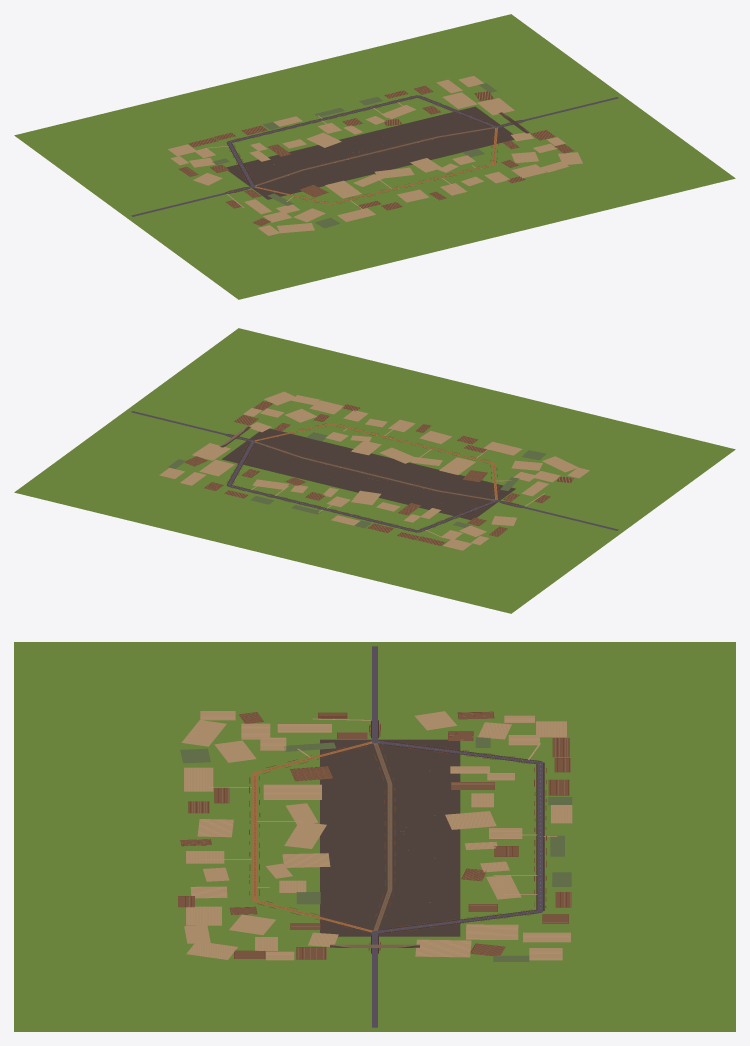
The model's file is D-CROSSING.base.glb.
3 views of the same model, one above another, from view 1: azimuth 30°, elevation 25°; view 2: azimuth 150°, elevation 25°; view 3: azimuth 270°, elevation 25° (orthographic). The views are drawn at different scales.
Parts seen in each view (by area): view 1: pal_grass; view 2: pal_grass; view 3: pal_grass, crossing-1-0, crossing-1-7, crossing-2-0, crossing-2-7, crossing-3-0, crossing-3-1, crossing-3-2, crossing-3-5, crossing-3-6, crossing-3-7, crossing-4-0 (+86 smaller).
Boxes of the visible parts, x1,y1,x2,y2 form: pal_grass: (14,14,735,299); pal_grass: (14,328,735,613); pal_grass: (14,642,735,1031); crossing-1-0: (525,731,575,752); crossing-1-7: (174,731,224,752); crossing-2-0: (525,752,575,773); crossing-2-7: (174,752,224,773); crossing-3-0: (525,773,575,794); crossing-3-1: (475,773,525,794); crossing-3-2: (425,773,475,794); crossing-3-5: (274,773,324,794); crossing-3-6: (224,773,274,794); crossing-3-7: (174,773,224,794); crossing-4-0: (525,794,575,815).
Bounding box in the file's own units: 1840 × 6.82 × 1440.
